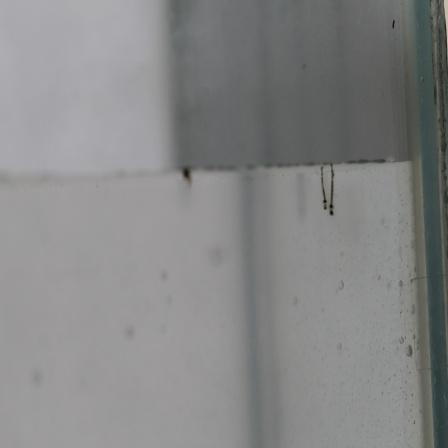Jentik-Nyamuk: (317, 162, 342, 223)
